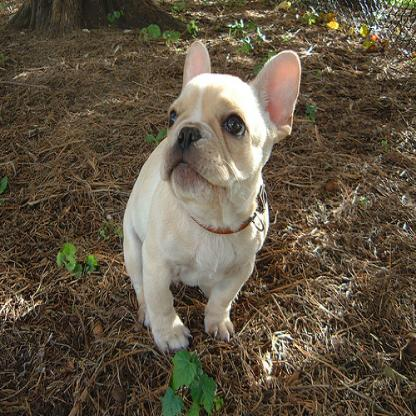French_bulldog: (121, 34, 302, 354)
